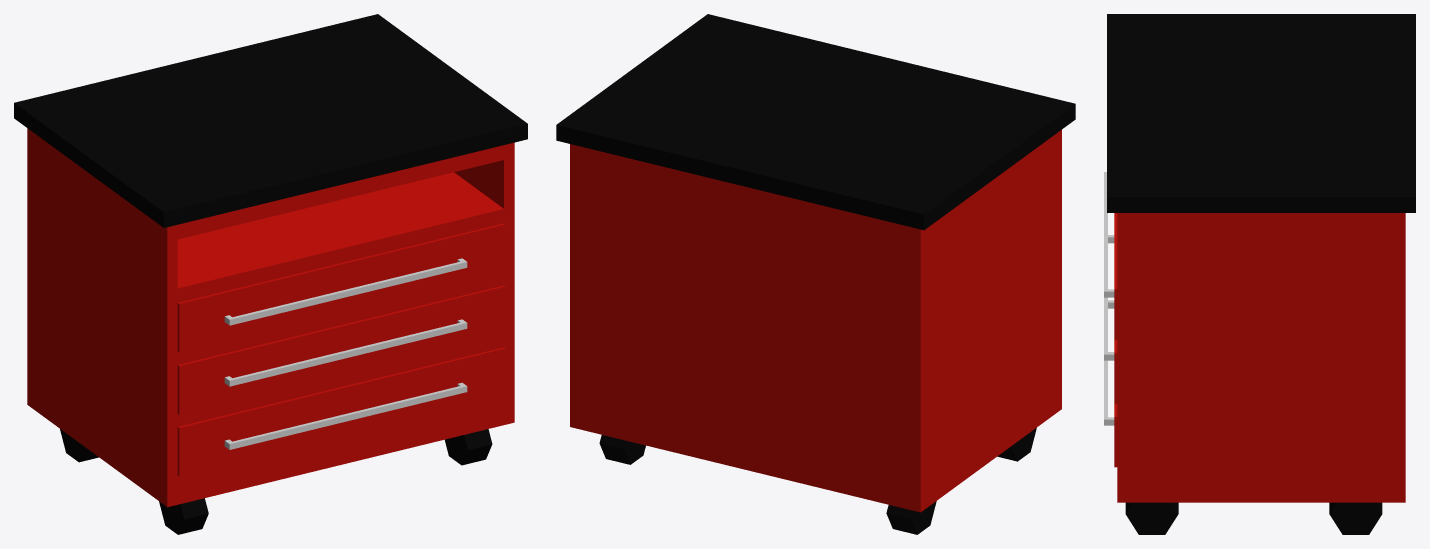
The model's file is Me_Desk_2.fbx.
The picture shows the model from 3 angles, left to right: view 1: azimuth 30°, elevation 25°; view 2: azimuth 150°, elevation 25°; view 3: azimuth 270°, elevation 25°; orthographic projection. The views are drawn at different scales.
Parts seen in each view (by area): view 1: Me_Desk_2; view 2: Me_Desk_2; view 3: Me_Desk_2.
Part boxes in pixels (box(x1,y1,x2,y2)): Me_Desk_2: box(14, 14, 527, 534); Me_Desk_2: box(556, 14, 1075, 534); Me_Desk_2: box(1104, 14, 1415, 534).
Size of the model in its own units: 770 by 554 by 689.
